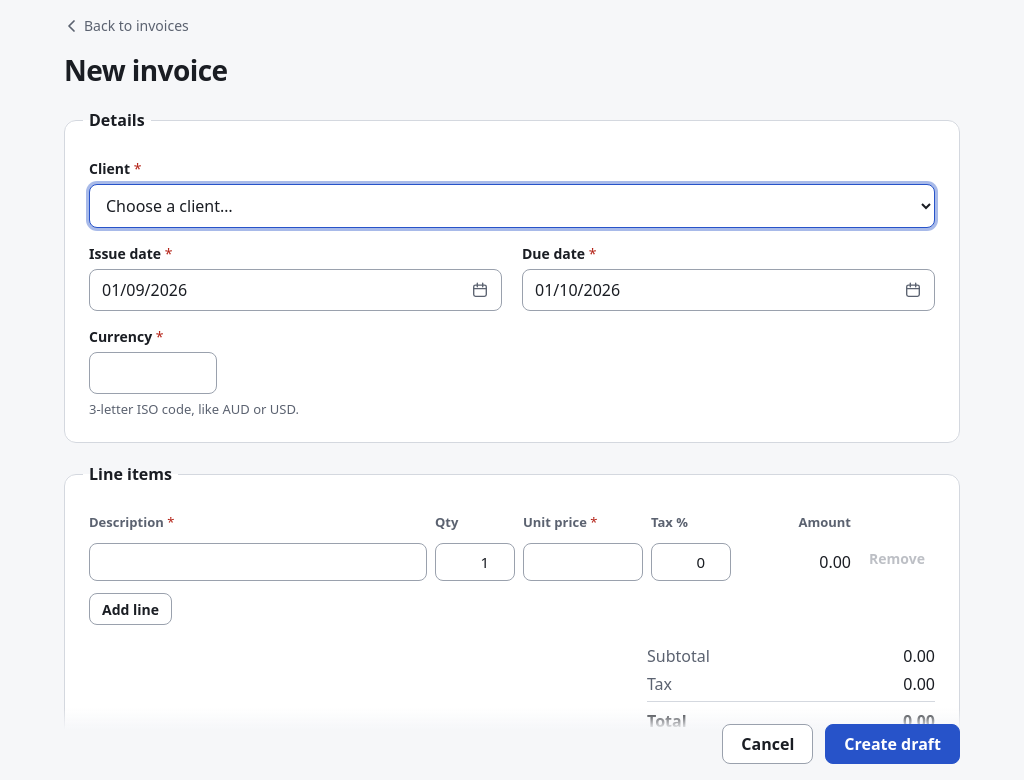
Test: InvoiceForm › only adds a line once the existing lines are complete
Step 1. Click the button "Add line" → (130, 609), box [89,593,172,625]
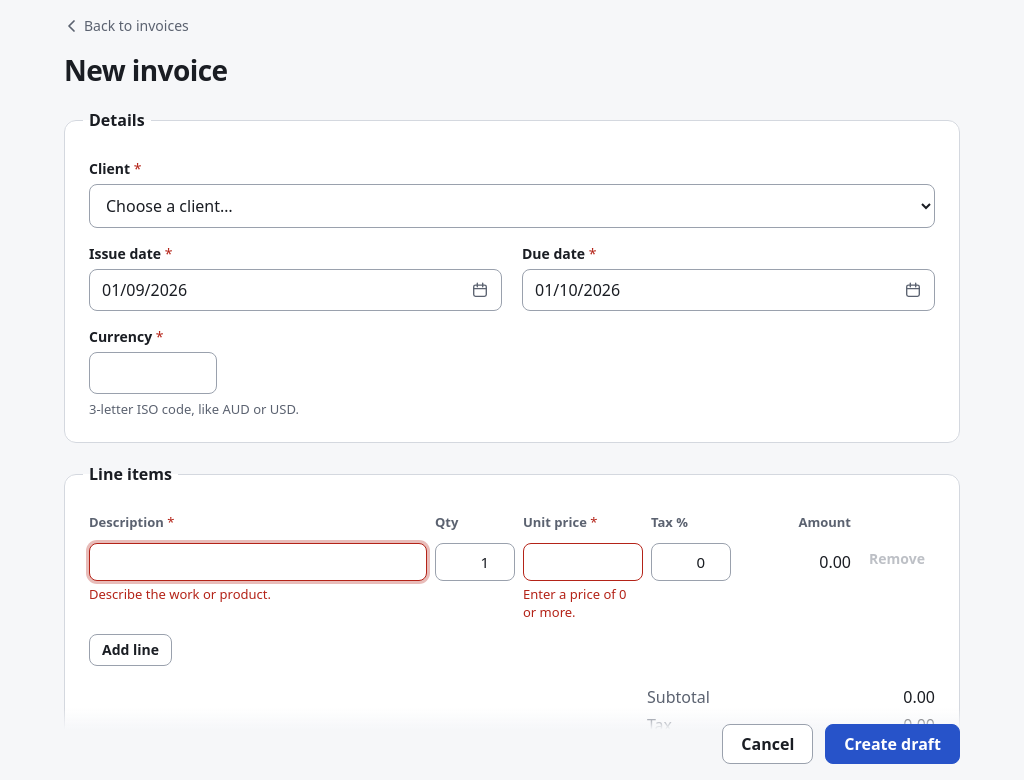
Expected: the field labelled "Description (Line 2) *" is not shown
Expected: the text "Describe the work or product." is shown, [89,585,271,603]
Expected: the text "Enter a price of 0 or more." is shown, [523,585,643,622]
Step 2. Type "Design" into the field named "Description (Line 1) *" → (258, 562), box [89,543,427,581]
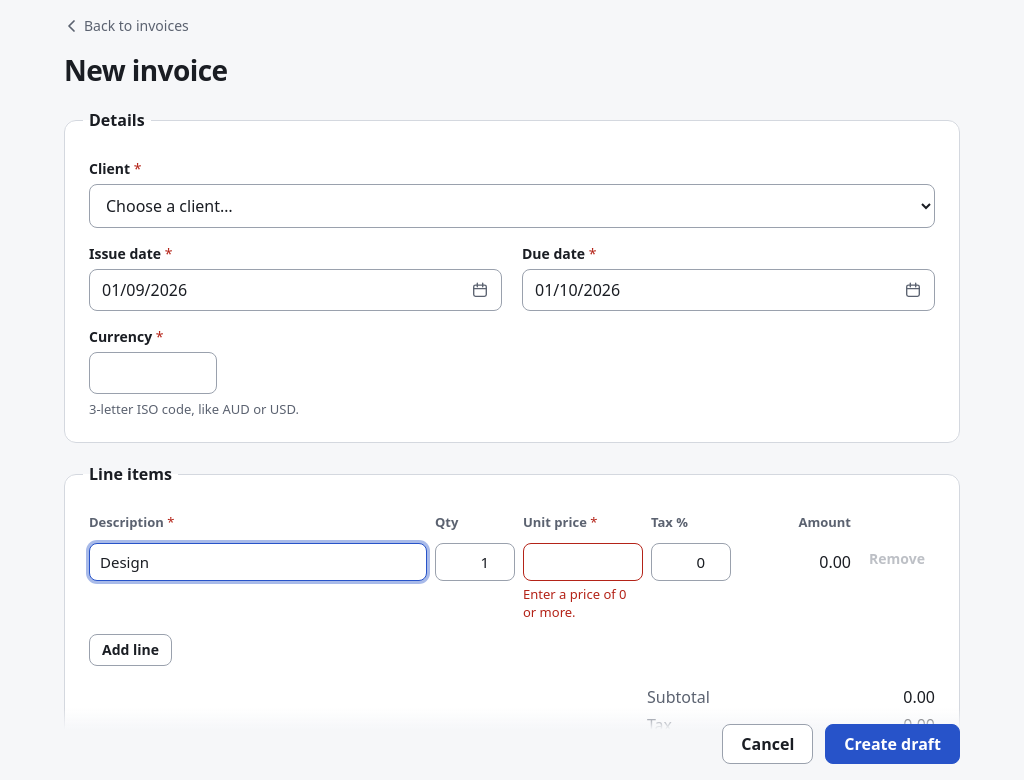
Step 3. Type "100" into the 2nd number field named "Unit price (Line 1) *" → (583, 562), box [523,543,643,581]
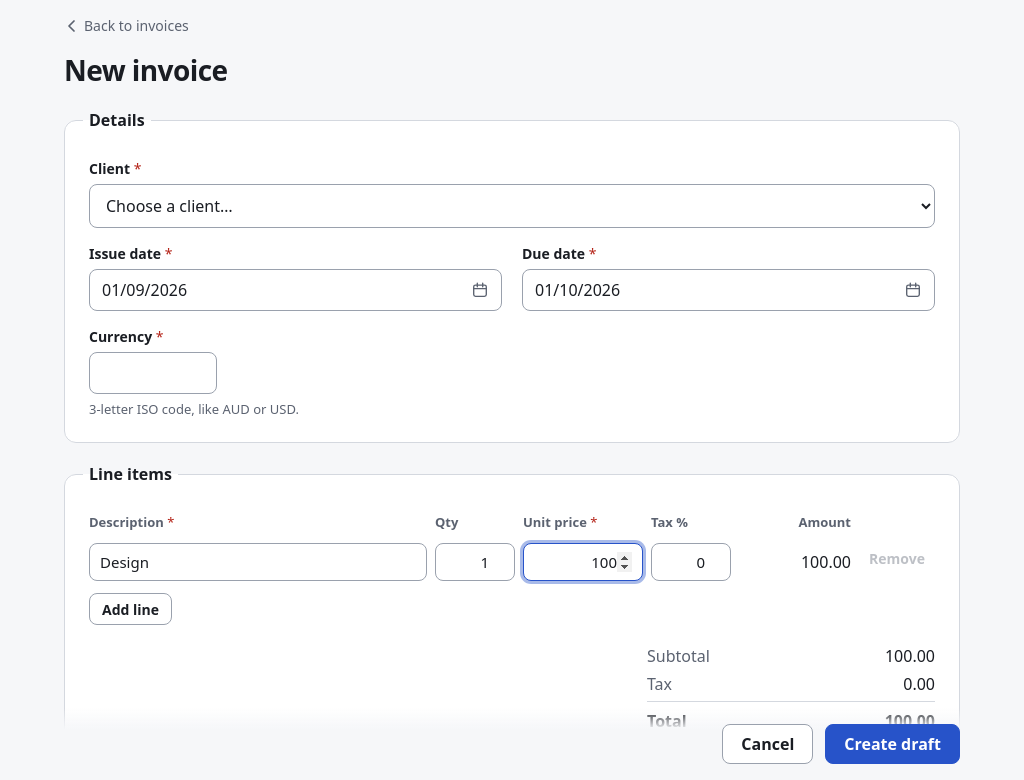
Step 4. Click the button "Add line" → (130, 609), box [89,593,172,625]
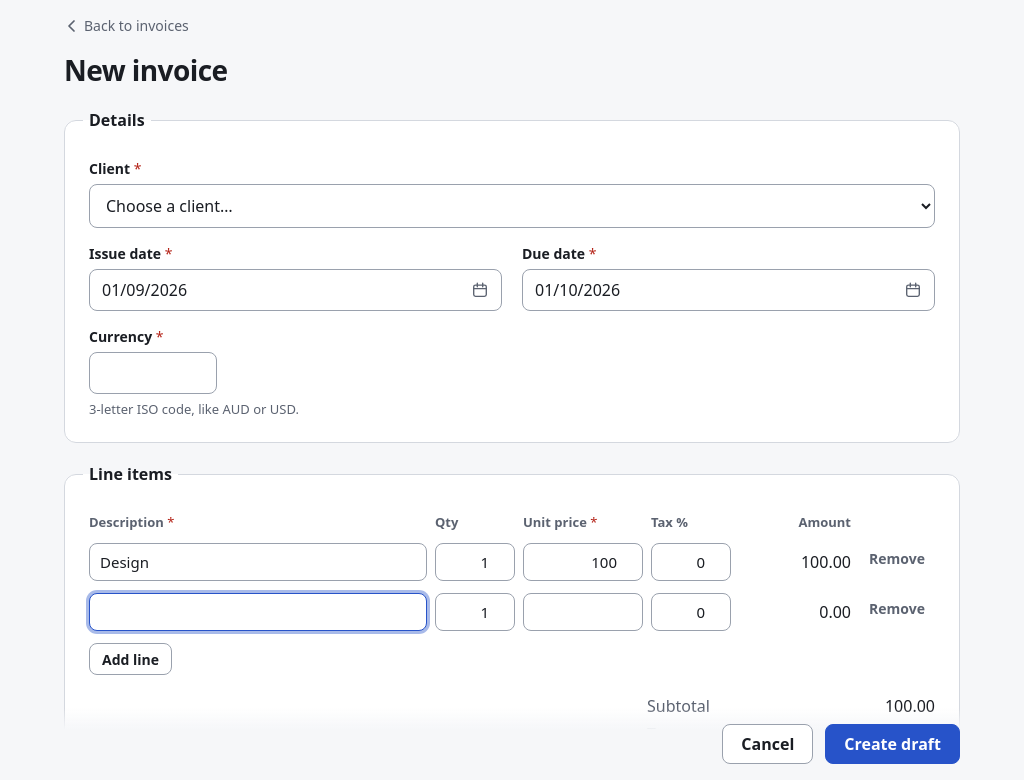
Expected: the 2nd field named "Description (Line 2) *" is shown, [89,593,427,631]
